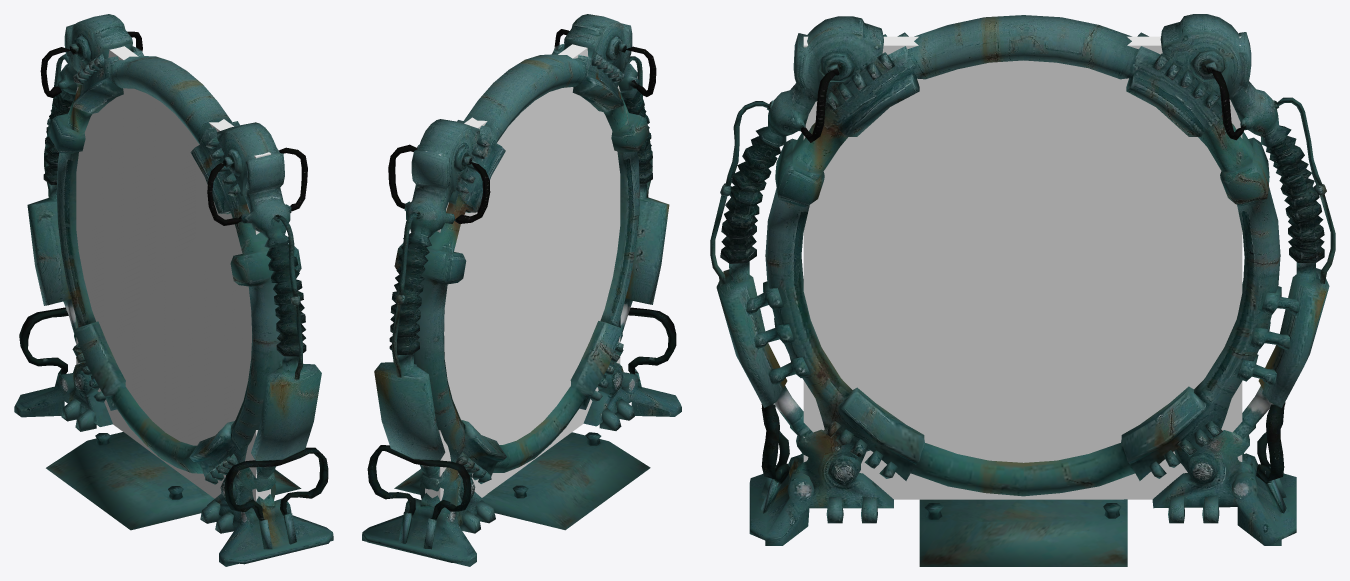
Rendered from portal.glb.
The picture shows the model from 3 angles, left to right: view 1: azimuth 30°, elevation 25°; view 2: azimuth 150°, elevation 25°; view 3: azimuth 270°, elevation 25°; orthographic projection. The views are drawn at different scales.
Parts seen in each view (by area): view 1: tripo_node_1a12e502-4224-4c52-9ea3-da5e7ddd1794, PortalSwirlMesh; view 2: tripo_node_1a12e502-4224-4c52-9ea3-da5e7ddd1794, PortalSwirlMesh; view 3: PortalSwirlMesh, tripo_node_1a12e502-4224-4c52-9ea3-da5e7ddd1794.
Part boxes in pixels (bbox=[...]): tripo_node_1a12e502-4224-4c52-9ea3-da5e7ddd1794: bbox=[14, 14, 333, 566]; PortalSwirlMesh: bbox=[76, 46, 270, 501]; tripo_node_1a12e502-4224-4c52-9ea3-da5e7ddd1794: bbox=[362, 14, 681, 566]; PortalSwirlMesh: bbox=[425, 44, 620, 500]; PortalSwirlMesh: bbox=[803, 36, 1242, 499]; tripo_node_1a12e502-4224-4c52-9ea3-da5e7ddd1794: bbox=[710, 14, 1335, 566].
Bounding box in the file's own units: 0.3848 × 0.873 × 0.998.
2 materials, 1 textured.
